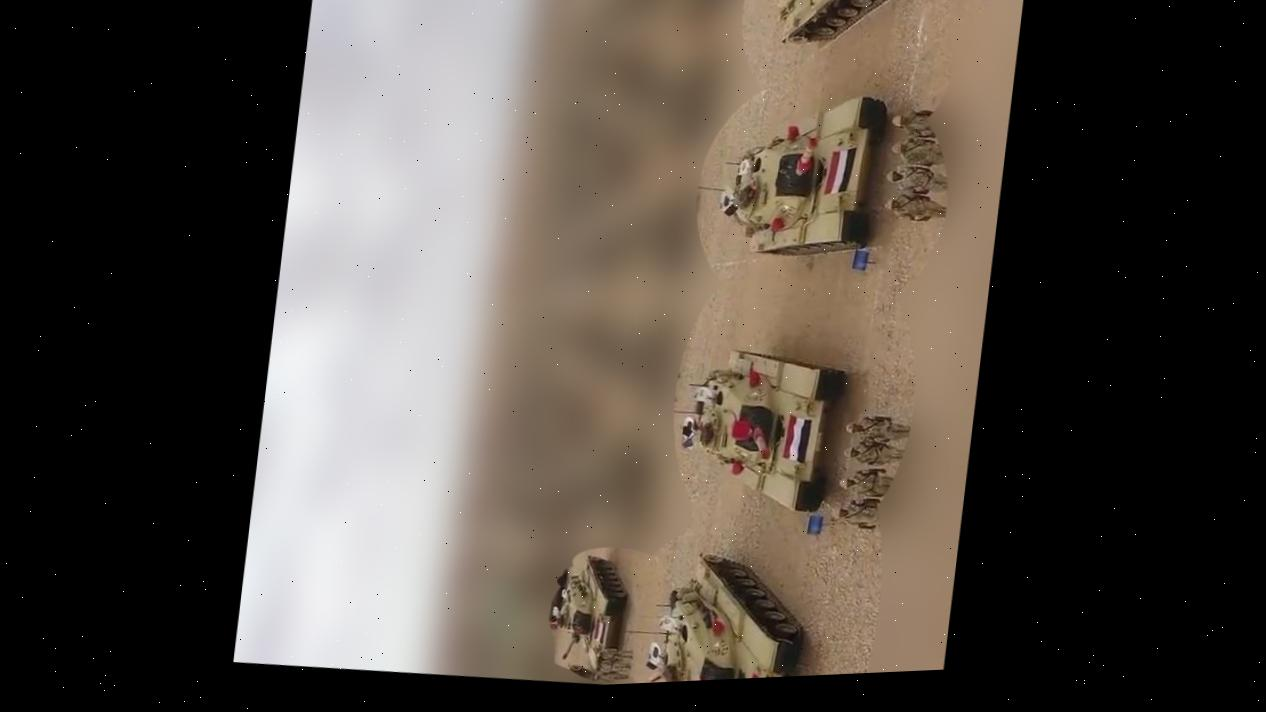tank: (688, 74, 890, 292), (662, 336, 846, 522), (637, 541, 811, 683), (542, 543, 639, 685), (718, 0, 919, 64)
